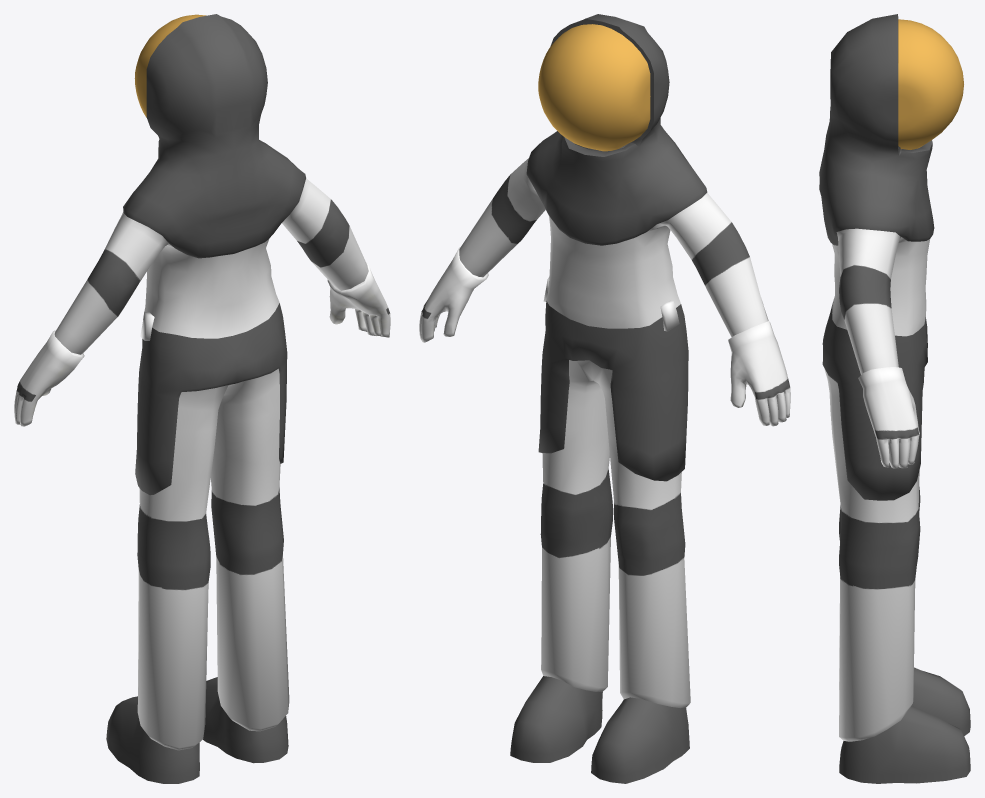
The model's file is kitty-astronaut.glb.
The picture shows the model from 3 angles, left to right: view 1: azimuth 30°, elevation 25°; view 2: azimuth 150°, elevation 25°; view 3: azimuth 270°, elevation 25°; orthographic projection.
Parts seen in each view (by area): view 1: Astronaut; view 2: Astronaut; view 3: Astronaut.
Part boxes in pixels (bbox=[...]): Astronaut: bbox=[14, 14, 390, 783]; Astronaut: bbox=[419, 14, 790, 783]; Astronaut: bbox=[819, 14, 970, 783].
Size of the model in its own units: 1.01 by 1.92 by 0.3624.
Materials: 1 (1 with a texture image).
